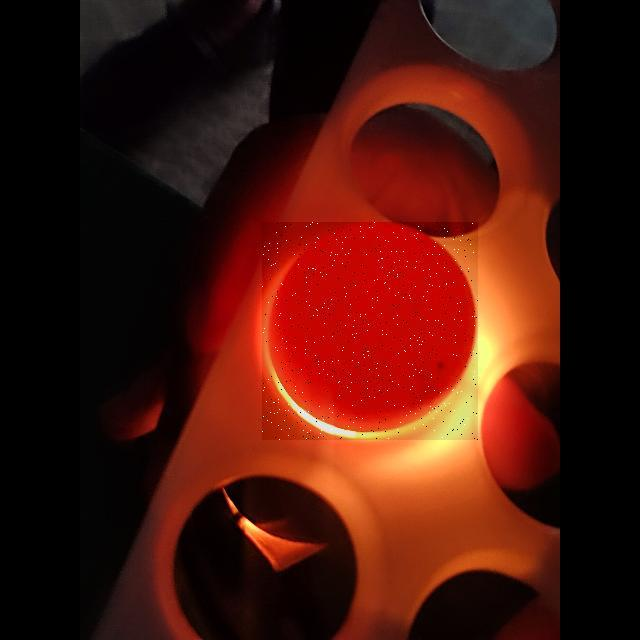Infertile: (262, 222, 478, 440)
